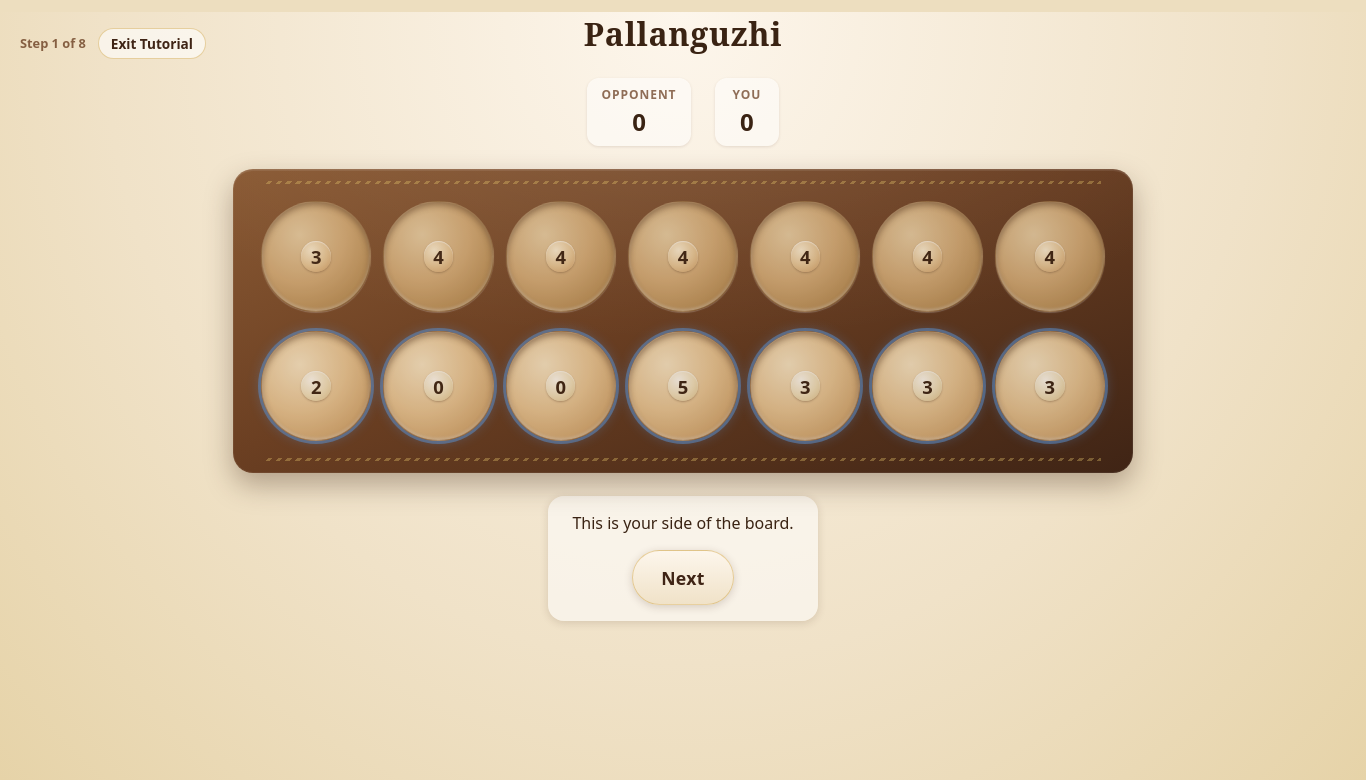
Scenario: TutorialScreen › progresses through the capture explanation to the opponent-move step
Step 1. Click the button "Next" → (683, 578), box [632,550,734,605]
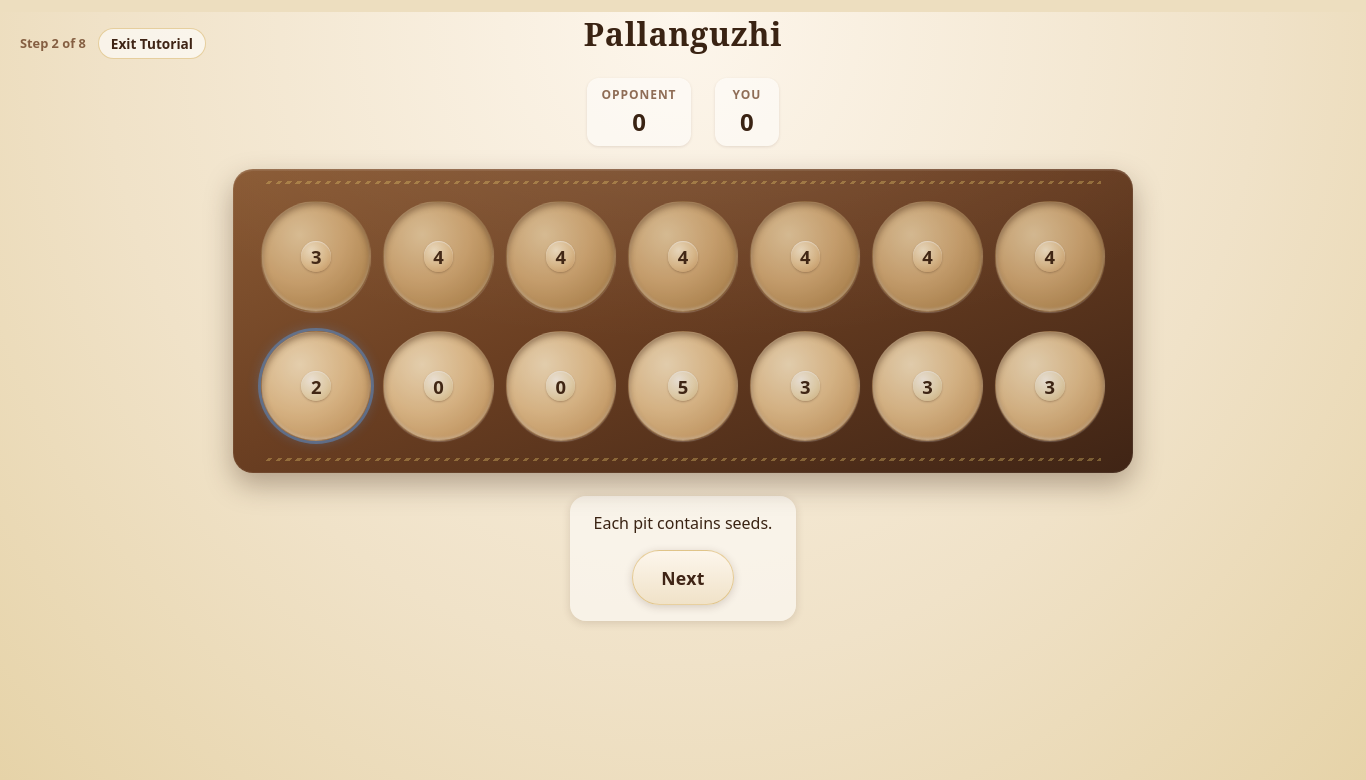
Step 2. Click the button "Next" → (683, 578), box [632,550,734,605]
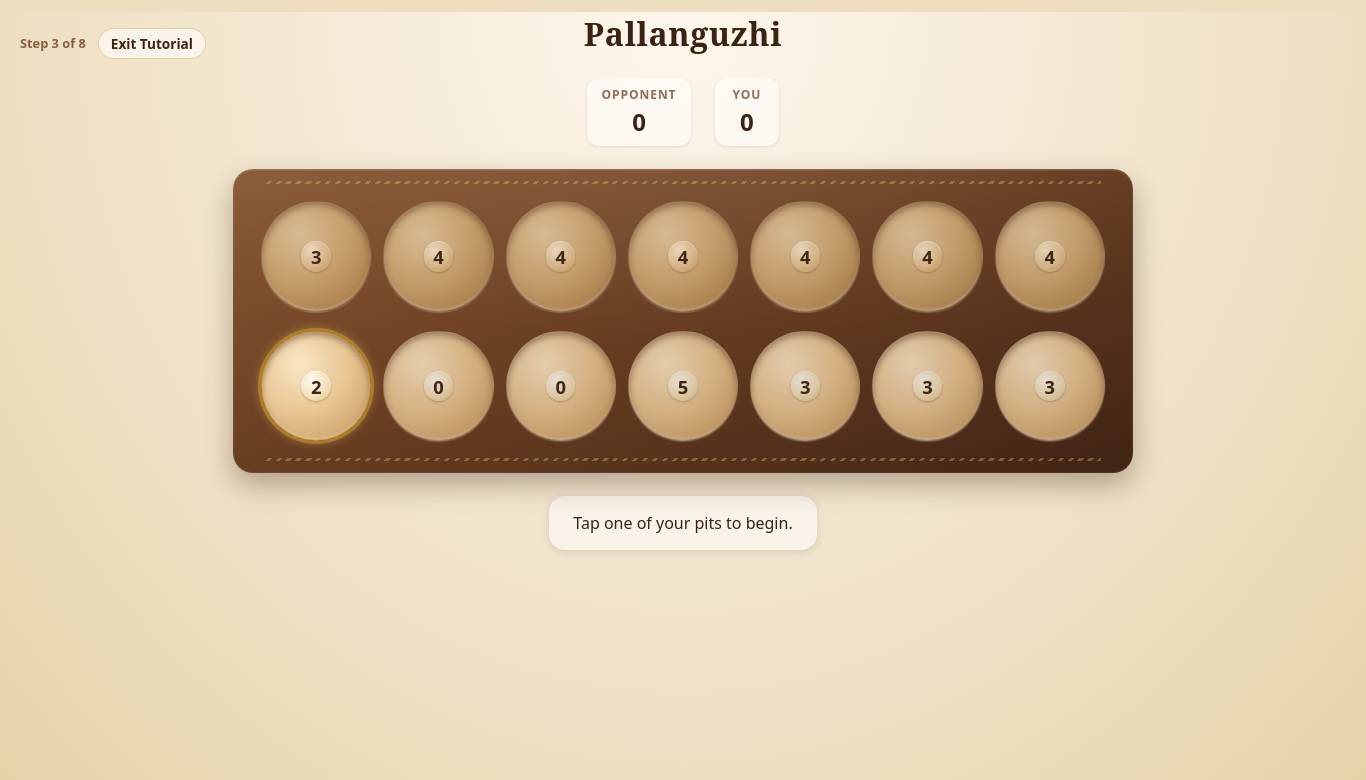
Step 3. Click the button with test id "pit-7" → (316, 386), box [261,331,371,441]
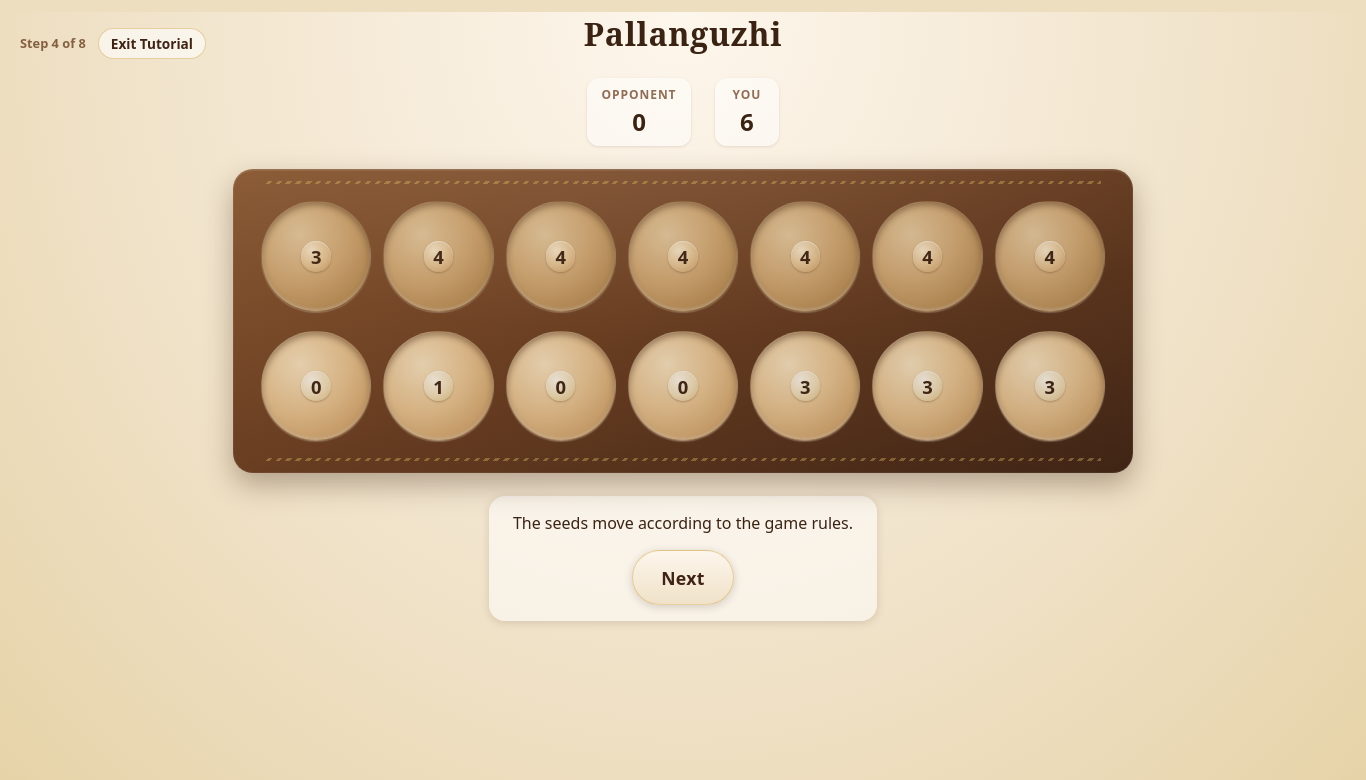
Step 4. Click the button "Next" → (683, 578), box [632,550,734,605]
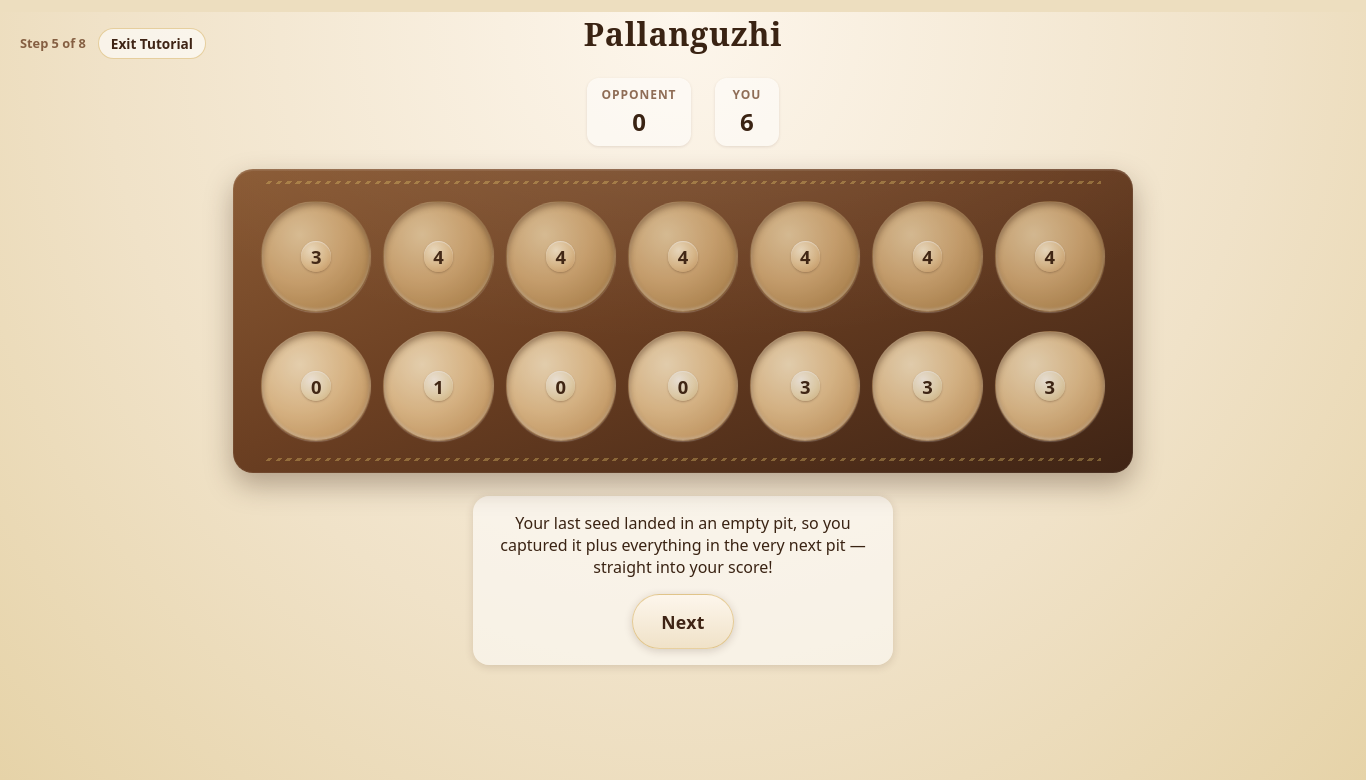
Result: the text "captured it plus everything" is shown at [500,512,866,578]
Step 5. Click the button "Next" → (683, 622), box [632,594,734,649]
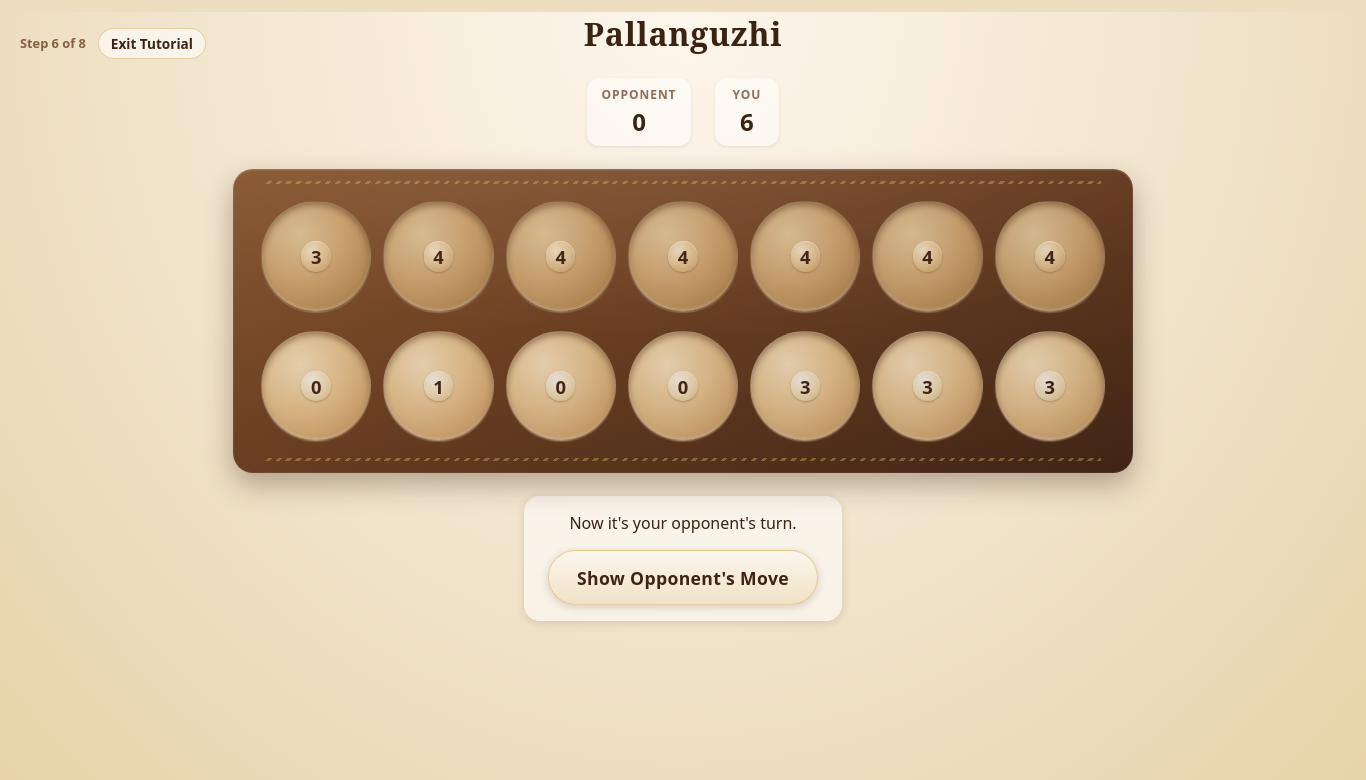
Result: the text "Now it's your opponent's turn." is shown at [569,512,797,534]
Result: the button "Show Opponent's Move" is shown at [548,550,818,605]
